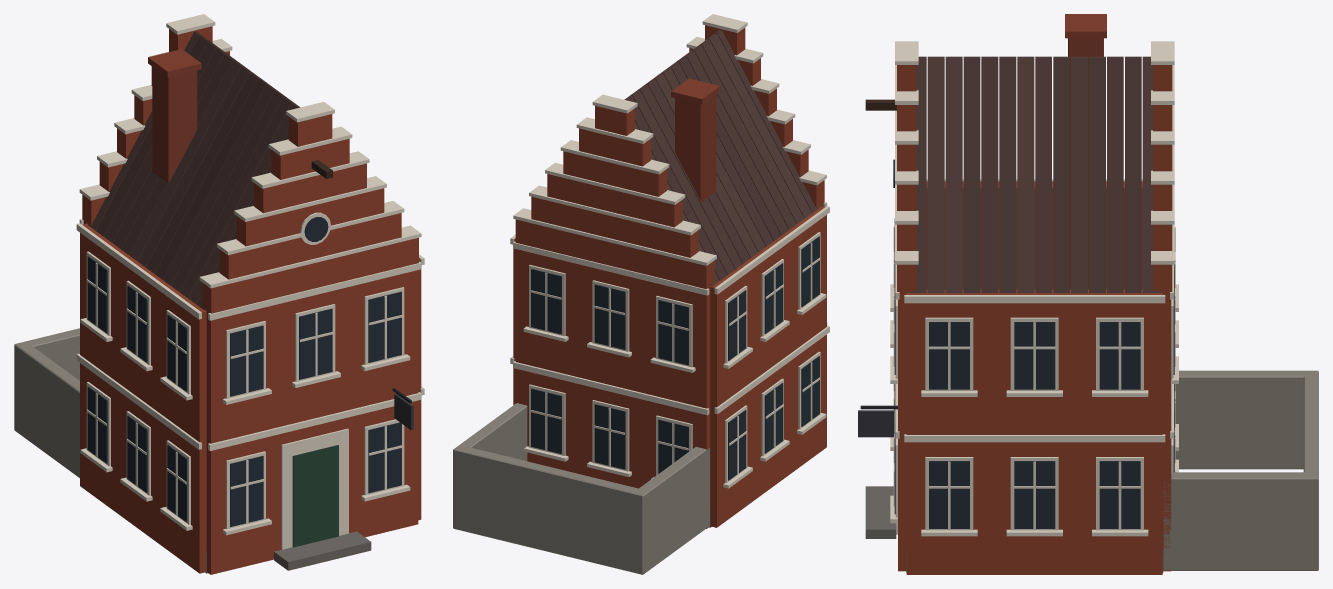
The model's file is jail_3.glb.
The picture shows the model from 3 angles, left to right: view 1: azimuth 30°, elevation 25°; view 2: azimuth 150°, elevation 25°; view 3: azimuth 270°, elevation 25°; orthographic projection. The views are drawn at different scales.
Parts seen in each view (by area): view 1: jail3_brick, jail3_stone, jail3_tiles, jail3_glass, jail3_wood; view 2: jail3_brick, jail3_stone, jail3_tiles, jail3_glass, jail3_wood; view 3: jail3_brick, jail3_tiles, jail3_stone, jail3_glass, jail3_wood.
Boxes of the visible parts, x1,y1,x2,y2 form: jail3_brick: (80,26,421,574); jail3_stone: (14,14,424,573); jail3_tiles: (87,31,300,310); jail3_glass: (87,217,401,526); jail3_wood: (86,160,413,547); jail3_brick: (513,25,826,528); jail3_stone: (453,14,829,574); jail3_tiles: (624,30,819,285); jail3_glass: (531,236,819,480); jail3_wood: (529,232,820,482); jail3_brick: (897,14,1172,574); jail3_tiles: (909,56,1159,293); jail3_stone: (865,41,1318,572); jail3_glass: (893,159,1174,528); jail3_wood: (858,99,1175,530).
Size of the model in its own units: 5.64 by 10.1 by 9.
